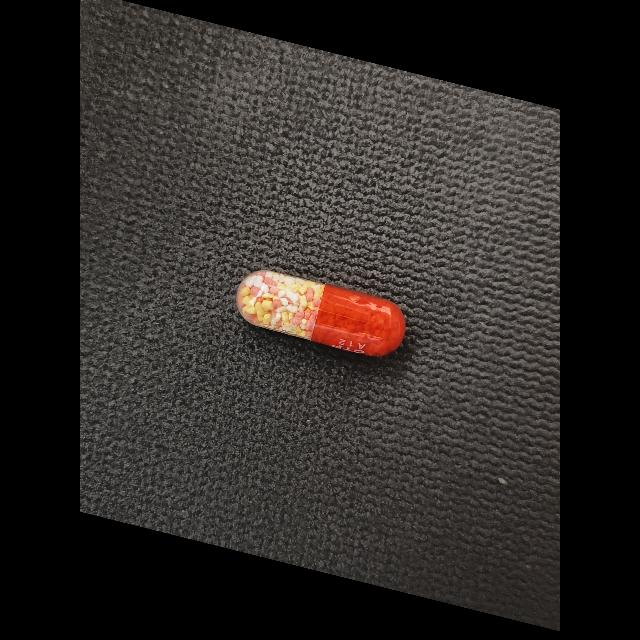Intact Capsule: (236, 270, 406, 357)
